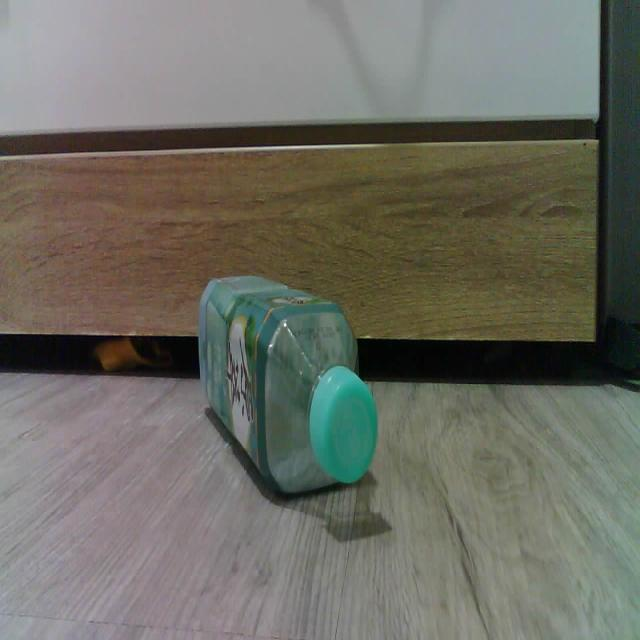bottle: (198, 276, 378, 493)
